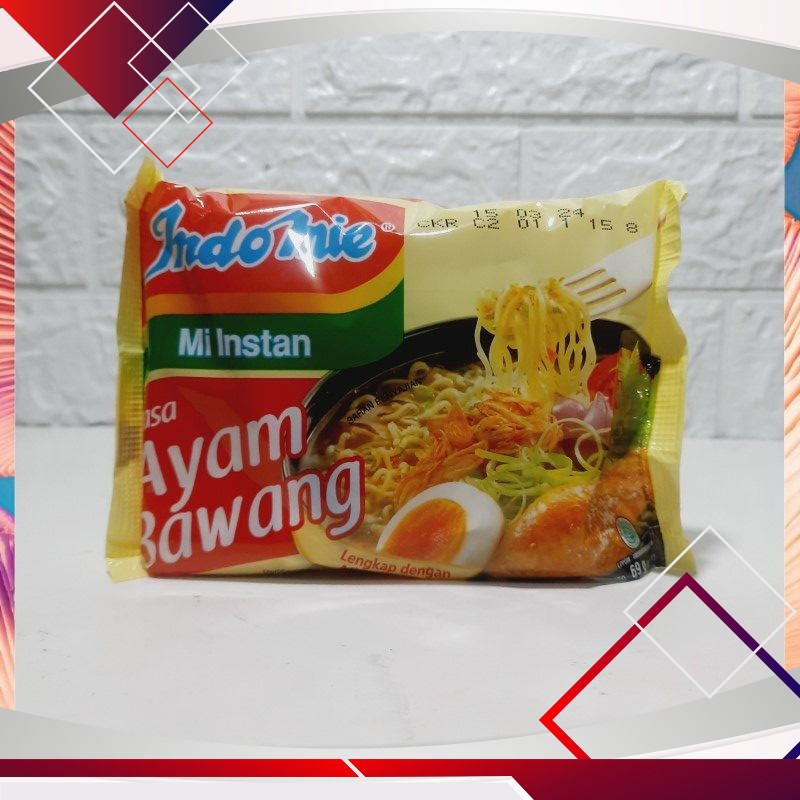Indomie Ayam Bawang (69g): (96, 135, 696, 615)
